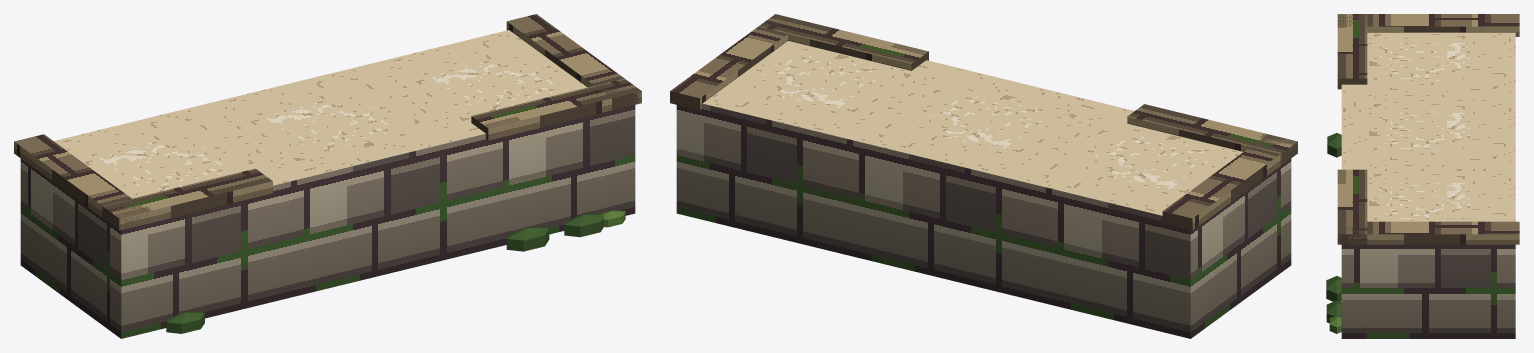
File: scene_shore_ledge.glb
3 views of the same model, side by side, from view 1: azimuth 30°, elevation 25°; view 2: azimuth 150°, elevation 25°; view 3: azimuth 270°, elevation 25° (orthographic). The views are drawn at different scales.
Parts seen in each view (by area): view 1: scene_shore_ledge; view 2: scene_shore_ledge; view 3: scene_shore_ledge.
Part boxes in pixels (left/top/right/bottom): scene_shore_ledge: left=14, top=14, right=641, bottom=338; scene_shore_ledge: left=670, top=14, right=1297, bottom=338; scene_shore_ledge: left=1326, top=14, right=1519, bottom=338.
Size of the model in its own units: 6.3 by 1.51 by 2.34.
Materials: 3 (2 with a texture image).
